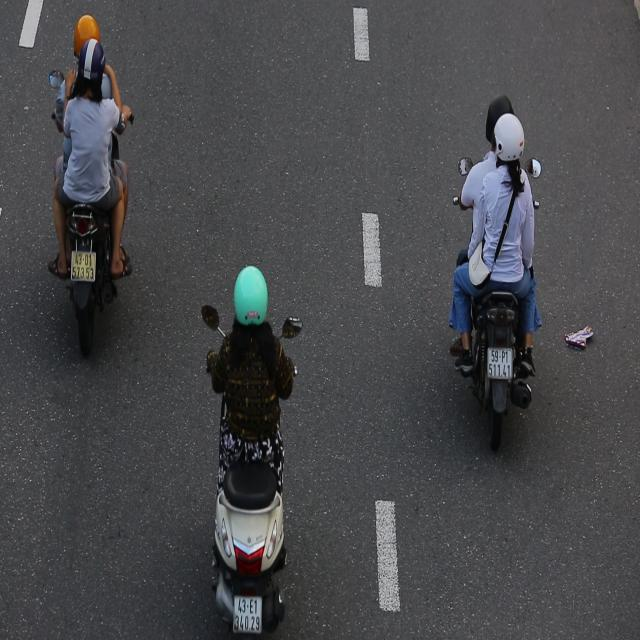motorbike: (198, 244, 308, 640), (441, 79, 550, 465), (44, 7, 147, 379)
